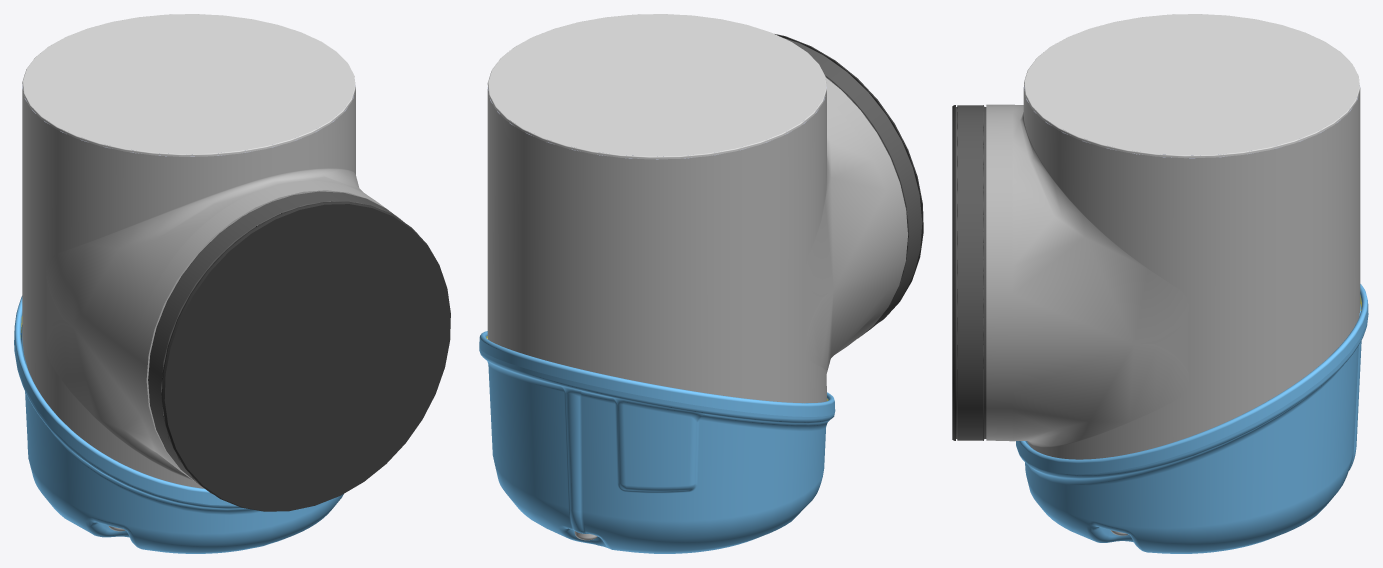
Rendered from wrist2.dae.
3 renders of one model, left to right at view 1: azimuth 30°, elevation 25°; view 2: azimuth 150°, elevation 25°; view 3: azimuth 270°, elevation 25°, orthographic.
Visible parts, largest first — view 1: NAUO6; view 2: NAUO6; view 3: NAUO6.
Part boxes in pixels (<box>): NAUO6: <box>14,14,450,553</box>; NAUO6: <box>479,14,923,553</box>; NAUO6: <box>952,14,1368,553</box>.
Size of the model in its own units: 0.0787 by 0.0927 by 0.1023.
